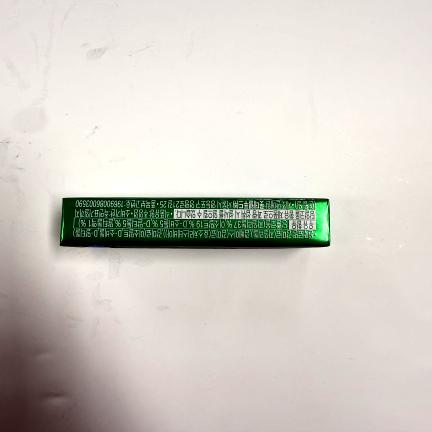gum_green: (56, 197, 329, 248)
